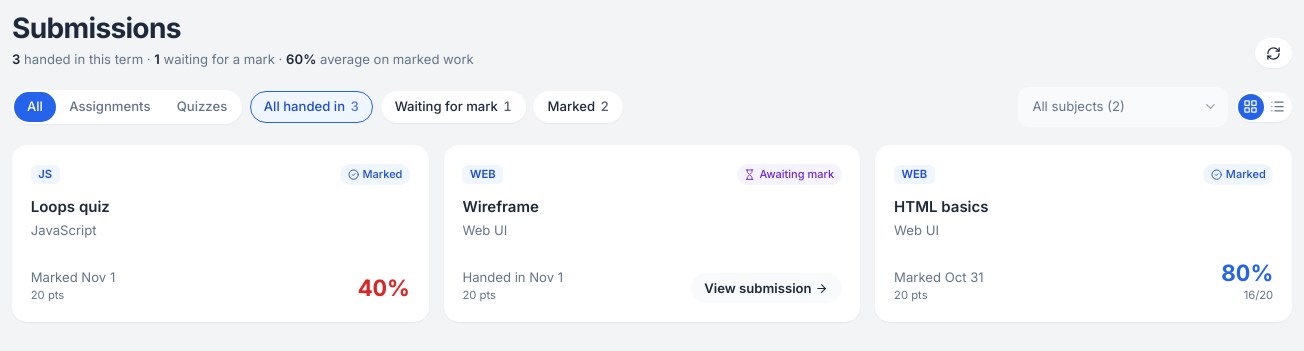
Student submissions › filters by kind and by marked state
This screenshot has width=1304, height=351.
Click the button "Quizzes" at (202, 107), box [164,92,240,122]
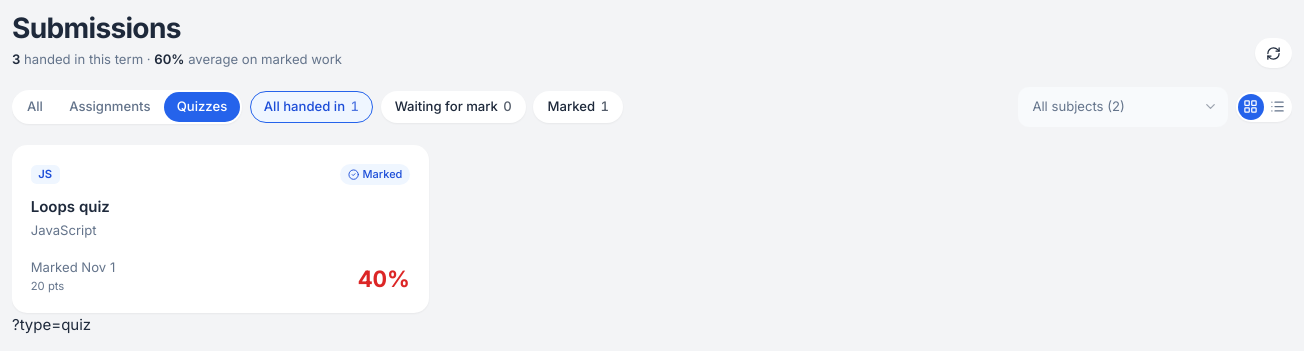
Click the button "All" at (35, 107), box [14,92,56,122]
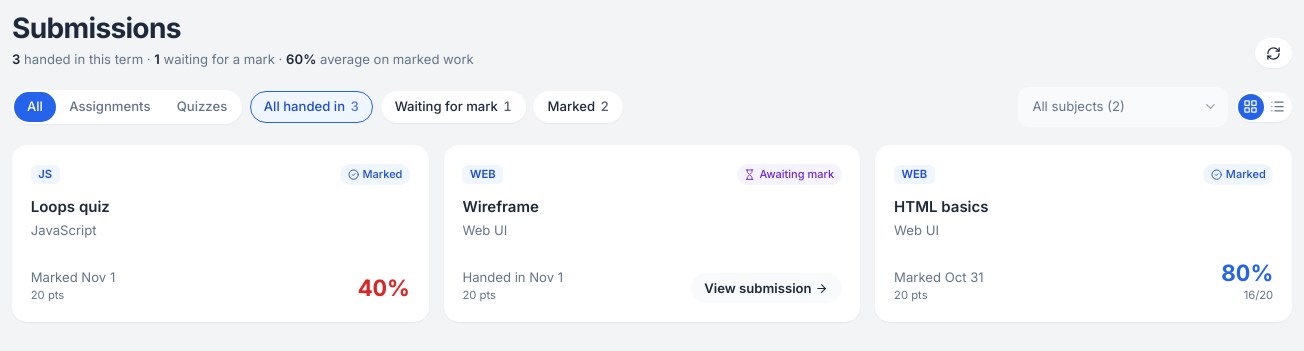
Click the button "Waiting for mark 1" at (453, 107), box [380,91,526,123]
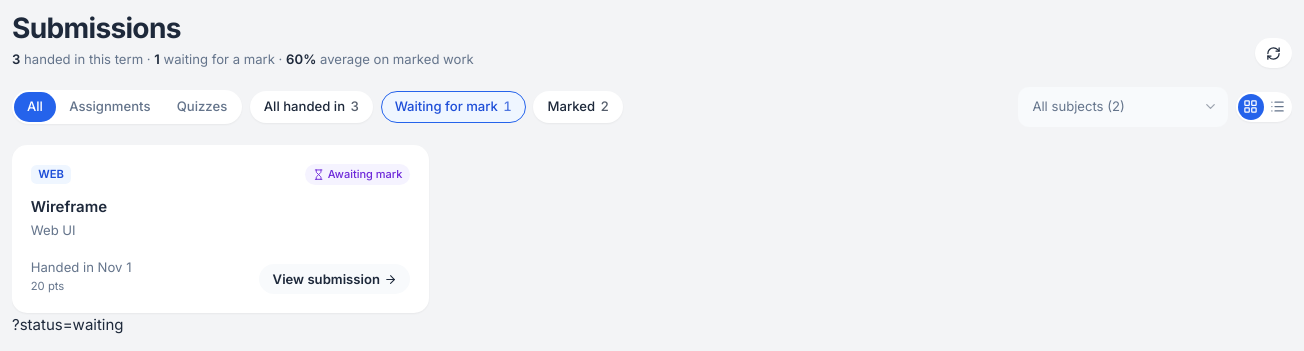
Check: the text with test id "location" reads "?status=waiting", box [12,315,124,334]
